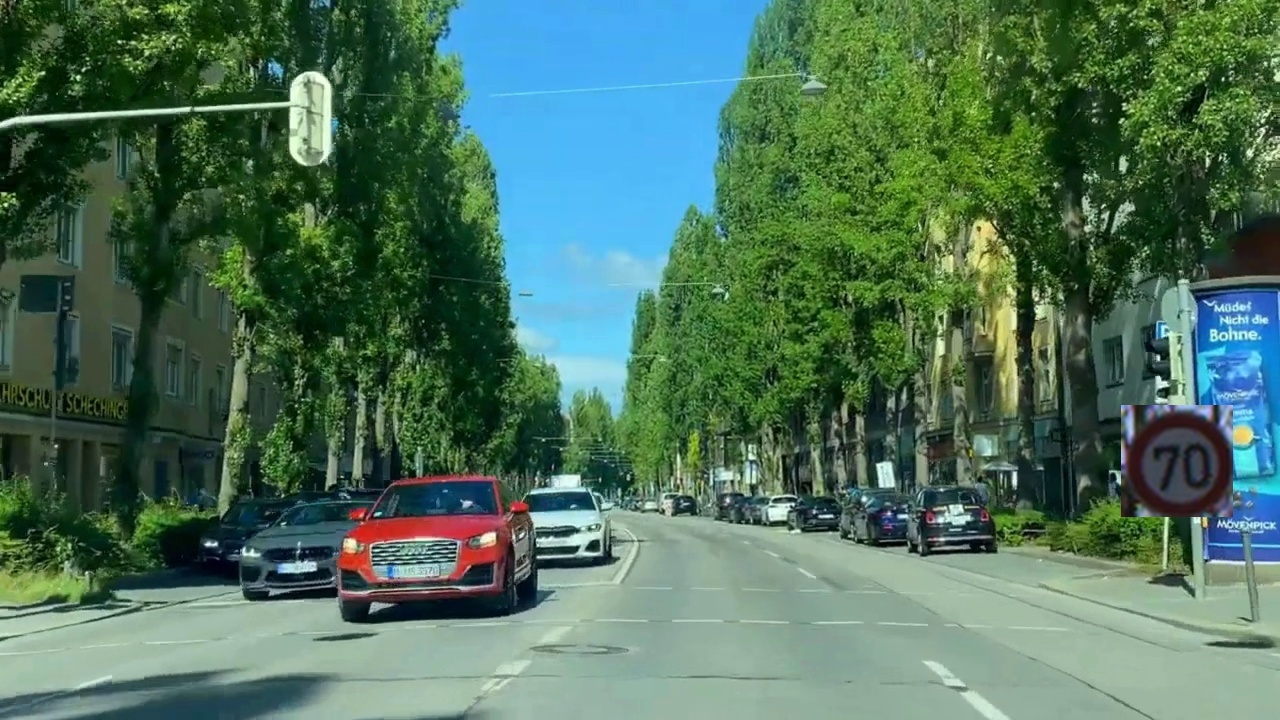Speed 70: (1121, 405, 1233, 517)
